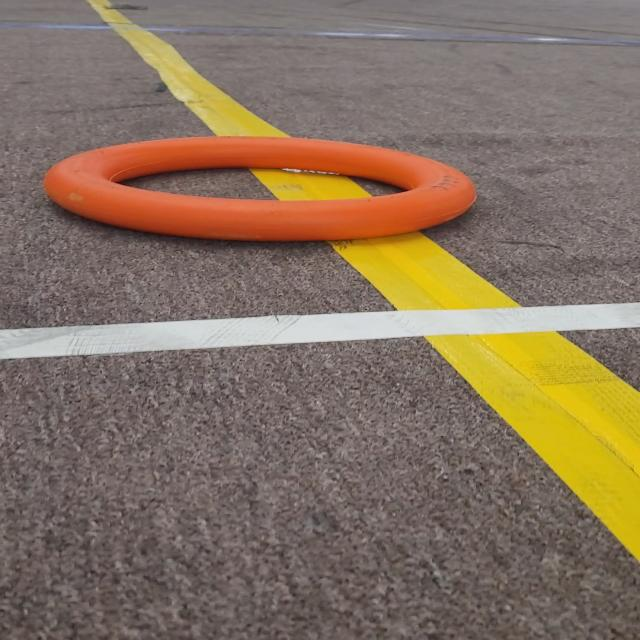note: (39, 136, 500, 251)
